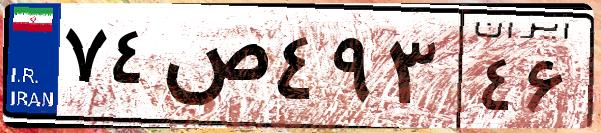3: (385, 28, 445, 110)
4: (270, 28, 330, 110), (475, 38, 525, 113), (110, 28, 158, 98)
6: (525, 38, 570, 115)
7: (57, 26, 110, 100)
9: (330, 28, 385, 110)
ص: (158, 20, 270, 120)
